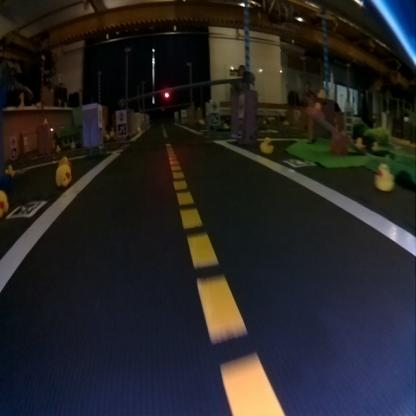Duckie: (374, 162, 394, 191), (54, 164, 72, 185), (259, 136, 274, 155), (0, 190, 8, 216), (356, 136, 364, 149), (6, 165, 14, 176)
QR code: (9, 200, 46, 217), (284, 158, 315, 167), (98, 128, 104, 145), (210, 112, 218, 124), (237, 118, 243, 132), (118, 125, 125, 133)
Traffic light: (164, 90, 170, 98)
